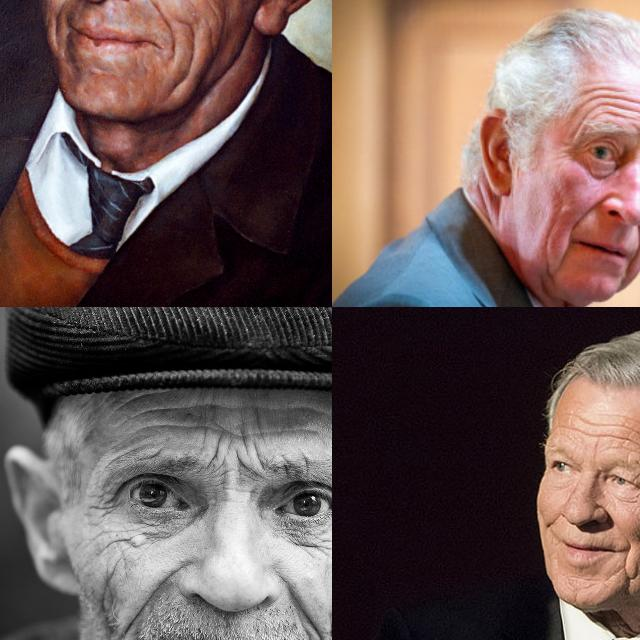crows_feet: (90, 476, 120, 522)
forehead: (124, 396, 192, 436), (264, 417, 314, 443), (609, 415, 640, 455), (563, 412, 601, 440), (611, 90, 635, 120), (588, 83, 606, 115)
frown_line: (210, 427, 256, 493)
gummy_smile: (130, 558, 176, 624), (280, 572, 318, 628), (149, 1, 177, 44), (573, 192, 601, 228), (48, 2, 68, 48), (630, 222, 640, 263), (542, 512, 560, 528)
masseter: (172, 25, 208, 95), (92, 560, 116, 620), (538, 233, 552, 281)
sad_smile: (618, 543, 636, 587), (554, 237, 568, 265)
